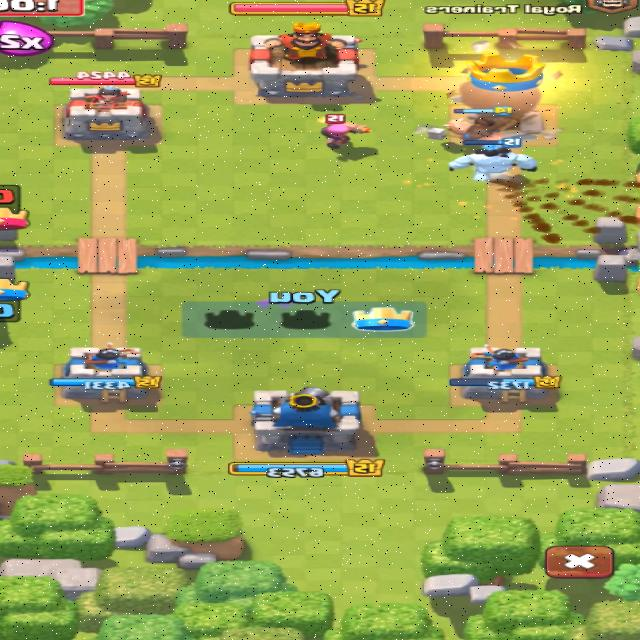Enemy-Firecracker: (321, 114, 370, 149)
Enemy-KingTower-Activated: (251, 22, 359, 95)
Enemy-PrincessTower: (65, 84, 153, 144)
Player-HogRider: (429, 114, 513, 140)
Player-IceGolem: (451, 143, 536, 181)
Player-KingTower-Activated: (251, 387, 362, 456)
Player-PrincessTower: (51, 343, 162, 403), (451, 345, 562, 403)
